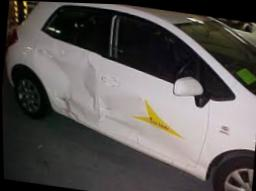Door: (97, 56, 208, 165), (29, 26, 108, 132)
